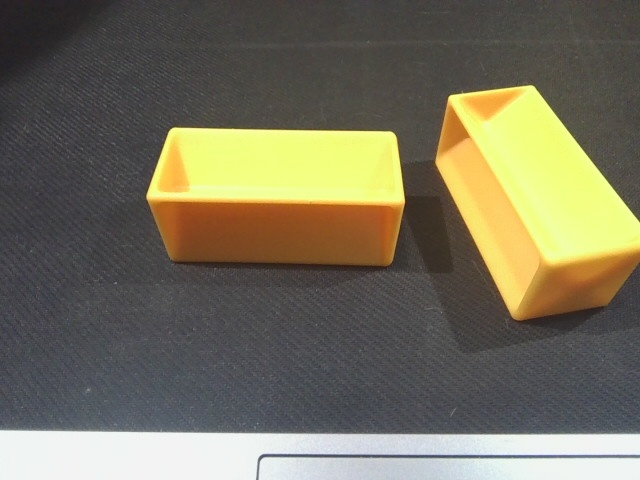YellowSample: (432, 86, 640, 328), (142, 114, 407, 276)
